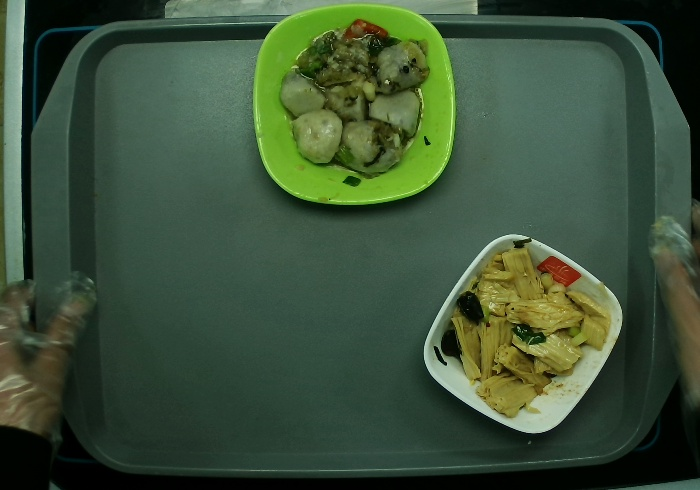SHKJ-Bai_Se_Xiao_Fang_Die: (421, 232, 624, 437)
SHKJ-Lv_Se_Cai_Die: (249, 1, 457, 204)
